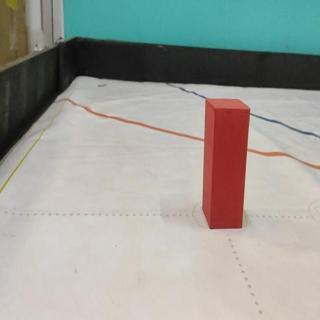redbox: (202, 97, 250, 229)
